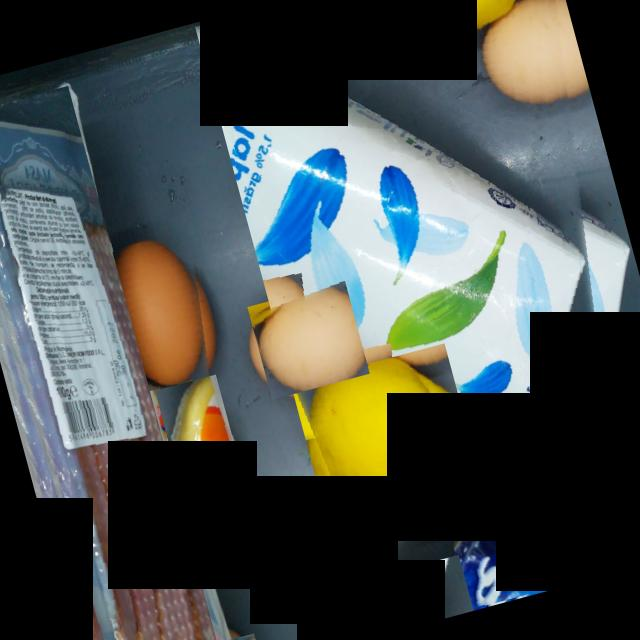bacon: (0, 85, 224, 640)
cheese: (155, 374, 260, 556)
eggs: (106, 229, 227, 394), (246, 280, 370, 399)
lemon: (290, 343, 488, 544)
milk: (195, 0, 640, 459)
yogurt: (443, 474, 604, 611), (324, 554, 473, 640)
